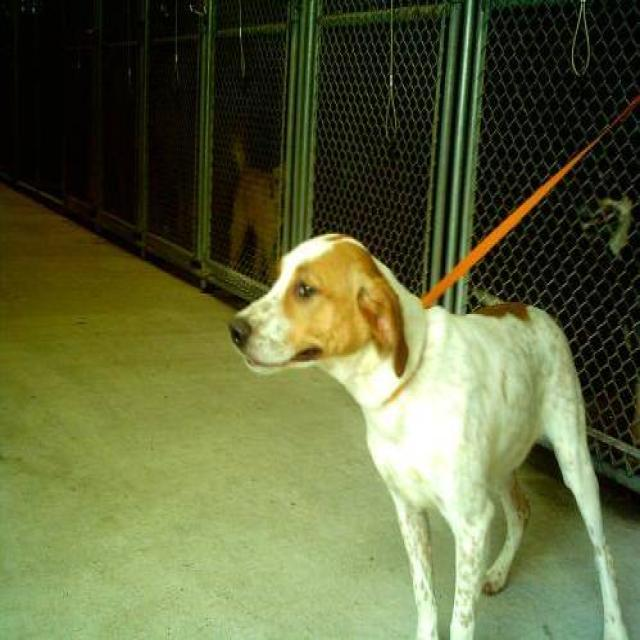dogs: (223, 247, 626, 640), (230, 117, 284, 290)
